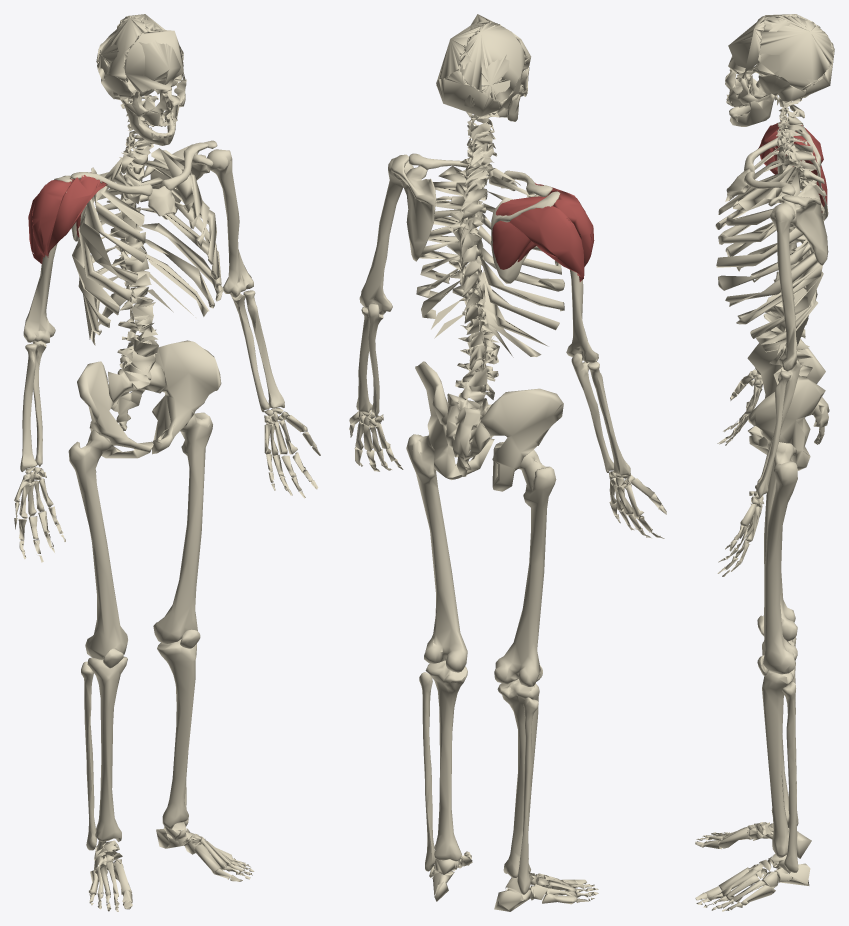
File: body-mobile.glb
The picture shows the model from 3 angles, left to right: view 1: azimuth 30°, elevation 25°; view 2: azimuth 150°, elevation 25°; view 3: azimuth 270°, elevation 25°; orthographic projection. The views are drawn at different scales.
Parts seen in each view (by area): view 1: bp3d.FMA7574, bp3d.FMA16585, bp3d.FMA9914, bp3d.FMA24474, bp3d.FMA24475, bp3d.FMA24478, muscle.deltoid, bp3d.FMA52734, bp3d.FMA24477, bp3d.FMA23131, bp3d.FMA9613, bp3d.FMA23914 (+18 smaller); view 2: bp3d.FMA9914, bp3d.FMA7574, bp3d.FMA16585, bp3d.FMA24474, bp3d.FMA24475, bp3d.FMA9613, muscle.deltoid, bp3d.FMA24478, bp3d.FMA24477, bp3d.FMA13396, bp3d.FMA16202, bp3d.FMA23131 (+14 smaller); view 3: bp3d.FMA7574, bp3d.FMA16585, bp3d.FMA24475, bp3d.FMA9613, bp3d.FMA9914, bp3d.FMA24478, bp3d.FMA23131, bp3d.FMA13396, bp3d.FMA24491, bp3d.FMA24481, bp3d.FMA24492, bp3d.FMA52734 (+18 smaller).
Boxes of the visible parts, x1,y1,x2,y2 form: bp3d.FMA7574: (72,148,223,345); bp3d.FMA16585: (77,340,221,458); bp3d.FMA9914: (107,95,158,382); bp3d.FMA24474: (68,430,127,659); bp3d.FMA24475: (153,412,212,643); bp3d.FMA24478: (157,639,196,828); muscle.deltoid: (28,175,107,263); bp3d.FMA52734: (124,29,185,94); bp3d.FMA24477: (87,656,127,841); bp3d.FMA23131: (207,149,253,297); bp3d.FMA9613: (97,14,183,82); bp3d.FMA23914: (14,431,320,562); bp3d.FMA9914: (447,112,499,405); bp3d.FMA7574: (416,165,564,357); bp3d.FMA16585: (415,361,563,491); bp3d.FMA24474: (494,449,556,686); bp3d.FMA24475: (406,434,467,672); bp3d.FMA9613: (437,20,526,102); muscle.deltoid: (509,183,594,281); bp3d.FMA24478: (425,660,467,861); bp3d.FMA24477: (497,679,539,877); bp3d.FMA13396: (391,154,436,261); bp3d.FMA16202: (445,393,491,476); bp3d.FMA23131: (359,157,413,315); bp3d.FMA7574: (715,143,823,354); bp3d.FMA16585: (747,337,825,470); bp3d.FMA24475: (763,442,797,674); bp3d.FMA9613: (752,14,833,89); bp3d.FMA9914: (756,99,826,384); bp3d.FMA24478: (762,669,794,857); bp3d.FMA23131: (770,203,796,371); bp3d.FMA13396: (768,183,828,265); bp3d.FMA24491: (747,822,811,888); bp3d.FMA24481: (782,681,798,872); bp3d.FMA24492: (718,824,775,905); bp3d.FMA52734: (728,15,765,78).
Bounding box in the file's own units: 0.6452 × 1.71 × 0.2524.
